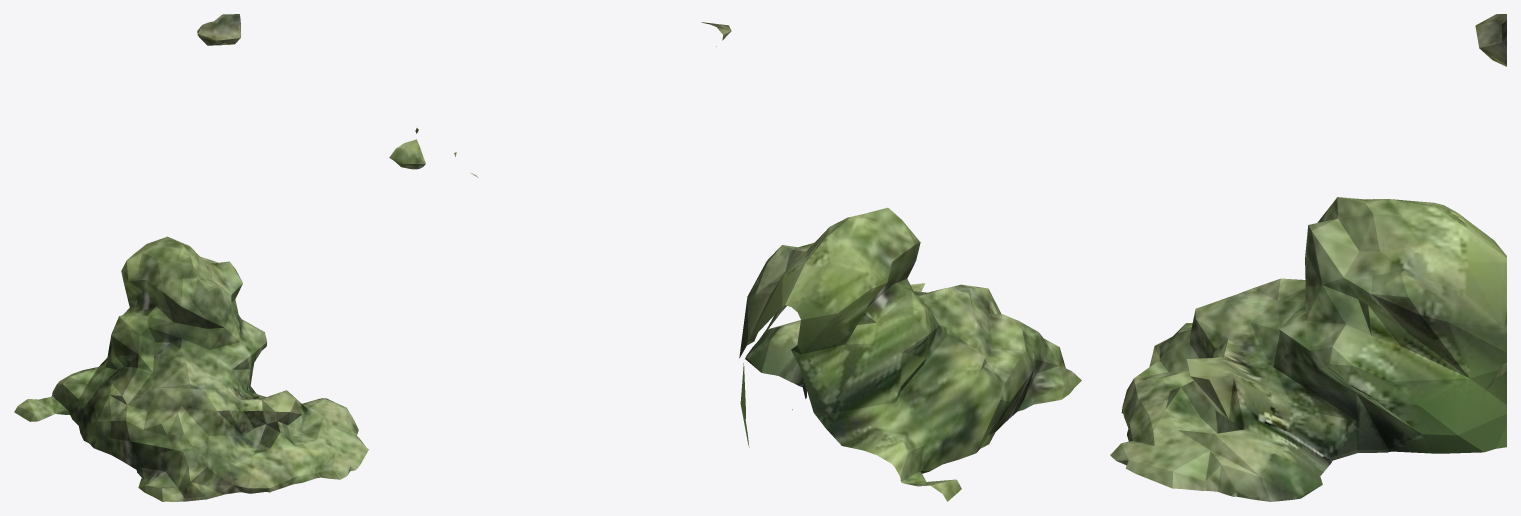
3 renders of one model, left to right at view 1: azimuth 30°, elevation 25°; view 2: azimuth 150°, elevation 25°; view 3: azimuth 270°, elevation 25°, orthographic. The views are drawn at different scales.
Bounding box in the file's own units: 19.23 × 15.83 × 12.48.
1 material, 1 textured.
